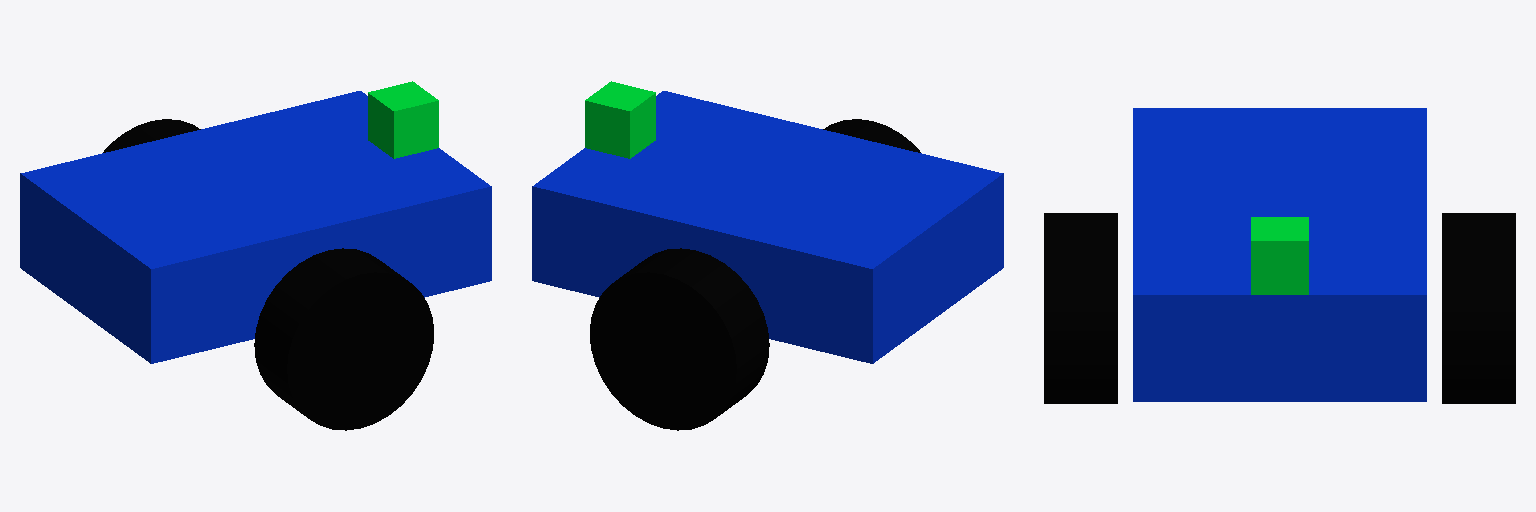
URDF robot description (carrinho):
<?xml version="1.0"?>
<robot name="carrinho">
  <material name="chassis_blue">
    <color rgba="0.05 0.25 0.85 1.0"/>
  </material>

  <material name="wheel_black">
    <color rgba="0.03 0.03 0.03 1.0"/>
  </material>

  <material name="front_green">
    <color rgba="0.0 0.9 0.25 1.0"/>
  </material>

  <link name="base_link">
    <visual>
      <origin xyz="0 0 0.0525"/>
      <geometry>
        <box size="0.15 0.10 0.04"/>
      </geometry>
      <material name="chassis_blue"/>
    </visual>

    <collision>
      <origin xyz="0 0 0.0525"/>
      <geometry>
        <box size="0.15 0.10 0.04"/>
      </geometry>
    </collision>

    <inertial>
      <origin xyz="0 0 0.0525"/>
      <mass value="0.5"/>
      <inertia
        ixx="0.000483"
        ixy="0"
        ixz="0"
        iyy="0.001004"
        iyz="0"
        izz="0.001354"
      />
    </inertial>
  </link>

  <link name="front_indicator">
    <visual>
      <geometry>
        <box size="0.02 0.02 0.02"/>
      </geometry>
      <material name="front_green"/>
    </visual>
  </link>

  <joint name="front_indicator_joint" type="fixed">
    <parent link="base_link"/>
    <child link="front_indicator"/>
    <origin xyz="0.065 0 0.0825"/>
  </joint>

  <link name="left_wheel">
    <visual>
      <origin rpy="1.570796 0 0"/>
      <geometry>
        <cylinder length="0.025" radius="0.0325"/>
      </geometry>
      <material name="wheel_black"/>
    </visual>

    <collision>
      <origin rpy="1.570796 0 0"/>
      <geometry>
        <cylinder length="0.025" radius="0.0325"/>
      </geometry>
    </collision>

    <inertial>
      <mass value="0.05"/>
      <inertia
        ixx="0.0000158"
        ixy="0"
        ixz="0"
        iyy="0.0000264"
        iyz="0"
        izz="0.0000158"
      />
    </inertial>
  </link>

  <joint name="left_wheel_joint" type="fixed">
    <parent link="base_link"/>
    <child link="left_wheel"/>
    <origin xyz="0 0.0675 0.0325"/>
  </joint>

  <link name="right_wheel">
    <visual>
      <origin rpy="1.570796 0 0"/>
      <geometry>
        <cylinder length="0.025" radius="0.0325"/>
      </geometry>
      <material name="wheel_black"/>
    </visual>

    <collision>
      <origin rpy="1.570796 0 0"/>
      <geometry>
        <cylinder length="0.025" radius="0.0325"/>
      </geometry>
    </collision>

    <inertial>
      <mass value="0.05"/>
      <inertia
        ixx="0.0000158"
        ixy="0"
        ixz="0"
        iyy="0.0000264"
        iyz="0"
        izz="0.0000158"
      />
    </inertial>
  </link>

  <joint name="right_wheel_joint" type="fixed">
    <parent link="base_link"/>
    <child link="right_wheel"/>
    <origin xyz="0 -0.0675 0.0325"/>
  </joint>

  <gazebo reference="base_link">
    <material>Gazebo/Blue</material>
    <gravity>false</gravity>
  </gazebo>

  <gazebo reference="front_indicator">
    <material>Gazebo/Green</material>
    <gravity>false</gravity>
  </gazebo>

  <gazebo reference="left_wheel">
    <material>Gazebo/Black</material>
    <gravity>false</gravity>
  </gazebo>

  <gazebo reference="right_wheel">
    <material>Gazebo/Black</material>
    <gravity>false</gravity>
  </gazebo>
</robot>

--- What the picture shows (computed from the rendered views, not written in the file) ---
3 views of the same robot in one strip: view 1: azimuth 30°, elevation 25°; view 2: azimuth 150°, elevation 25°; view 3: azimuth 270°, elevation 25° (orthographic).
Model carrinho with 4 links and 3 joints (3 fixed), rooted at base_link, posed all joints at 0.
Links seen in each view (by area): view 1: base_link, right_wheel, front_indicator, left_wheel; view 2: base_link, left_wheel, front_indicator, right_wheel; view 3: base_link, left_wheel, right_wheel, front_indicator.
Boxes of the visible links, x1,y1,x2,y2 form: base_link: (20,91,491,363); right_wheel: (254,248,433,430); front_indicator: (368,81,438,158); left_wheel: (103,119,200,152); base_link: (532,91,1003,363); left_wheel: (590,248,769,430); front_indicator: (585,81,655,158); right_wheel: (823,119,920,152); base_link: (1133,108,1426,401); left_wheel: (1442,213,1515,403); right_wheel: (1044,213,1117,403); front_indicator: (1251,217,1308,294).
Bounding box of the posed robot: 0.15 × 0.16 × 0.0925 m (x, y, z).
Geometry: primitives only (box / cylinder / sphere), no mesh files.
